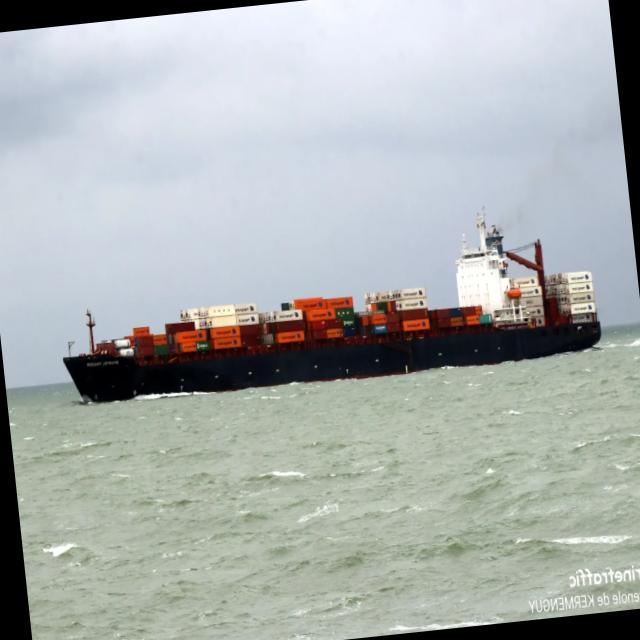Cargo: (63, 212, 600, 401)
